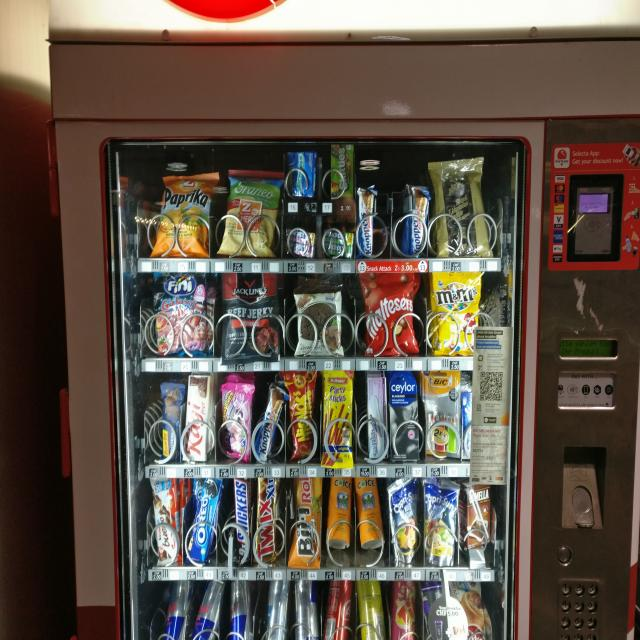7days_croissantschoko_packung_80_1_0000000000003: (450, 578, 488, 640)
airwaves_menthoneucalyptus_riegel_14_1_50173167: (283, 146, 318, 202)
bifi_roll__50__4251097402635: (288, 476, 323, 568)
bueno___43__4008400320328: (151, 477, 181, 562)
c-swiss_dosenabisicetea__33__9120025930135: (354, 474, 388, 551), (322, 475, 355, 549)
caferoyal_classicmacchiato__33__7617014164487: (419, 578, 450, 640)
caprisun_multivitamin__20__4000177605004: (387, 476, 423, 559), (422, 478, 457, 563)
coke__dose_33__54491472: (323, 579, 354, 640)
comella_schokodrink__33__7613100037253: (460, 477, 495, 553)
fini_galaxymix_packung_100_1_8410525150364: (154, 272, 206, 354)
fini_jellykisses_packung_80_1_8410525116704: (218, 379, 255, 458)
fuse_lemon_dose_33__5449000235947: (355, 577, 387, 640)
jacklinks_beefjerkyorginal__25__4047751730219: (218, 270, 281, 362)
jlbrichard_gauffre__90__5410495002000: (432, 158, 490, 256)
kagi___50__7610046000259: (184, 373, 209, 461)
knoppers_riegel____4035800488808: (255, 383, 287, 462), (356, 182, 377, 262), (409, 181, 431, 256)
lorenz_nicnacs__40__4018077798818: (285, 369, 315, 460)
malburner_partysticks__40__7610200279682: (321, 371, 354, 473)
maltesers___100__5000159023061: (359, 270, 421, 354)
mnms_gelb__45__40111445: (431, 270, 482, 354)
oreo___66__84100733: (185, 476, 222, 564)
powerbar_proteinplusschoko__55__4029679520028: (158, 381, 185, 462)
redbull___33__90162909: (193, 578, 226, 640), (161, 578, 193, 640), (224, 580, 255, 640), (261, 577, 290, 639), (292, 577, 320, 640)
skittles_sour_riegel_51_1_0000000000004: (328, 142, 358, 202)
snickers___50__5000159461122: (230, 474, 254, 561)
stimorol_spearmint_riegel_14_1_0000000000005: (322, 229, 352, 261)
stimorol_wildcherry_riegel_14_1_57060330: (285, 225, 314, 256)
tiki_himbeer_brause__50__00000000009342: (389, 577, 418, 640)
twix___50__5000159459228: (252, 476, 280, 564)
zweifel_graneochilli__100__7610095184009: (218, 166, 281, 258)
zweifel_paprika__90__7610095013002: (152, 172, 214, 257)
